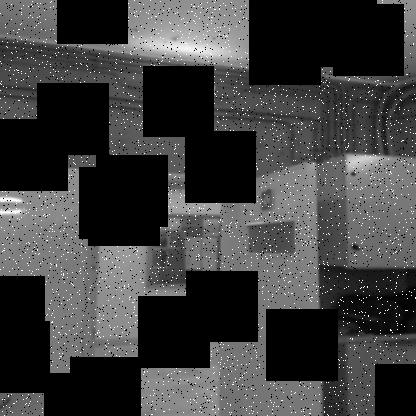Porte: (73, 158, 322, 415)
